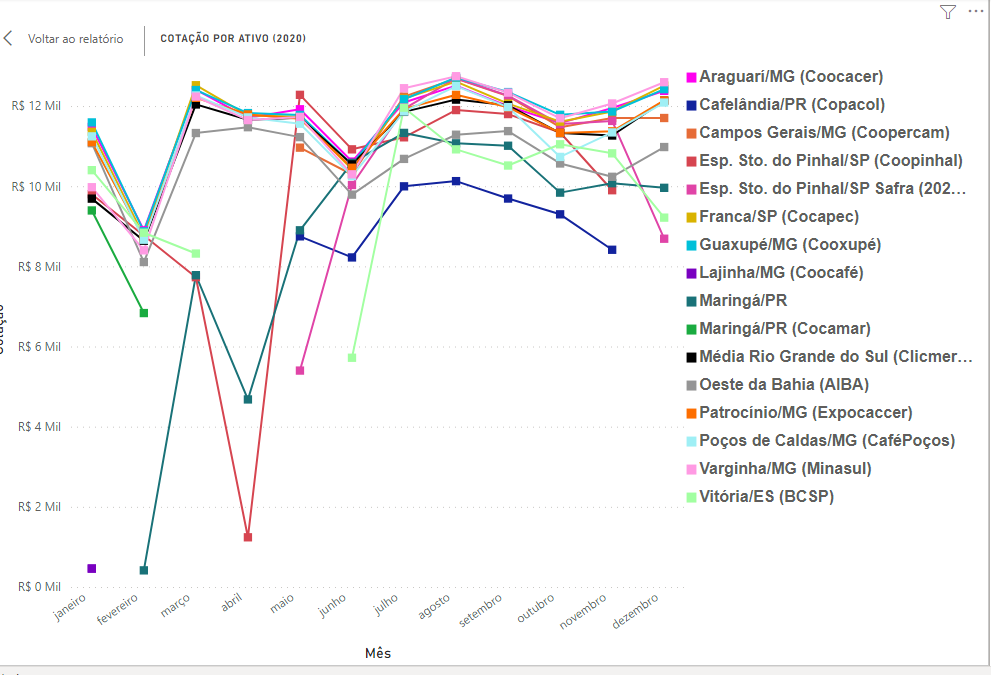

Layout of this report page (visuals, bound fields, positions):
{"tool":"powerbi","page":{"name":"Página 1","canvas":[1280,720],"ordinal":0},"visuals":[{"type":"lineChart","title":"Cotação por Ativo (2020)","fields":{"Y":["Sum(cotacoes.Cotação)"],"Series":["cotacoes.Ativo"],"Category":["cotacoes.Data.Variation.Hierarquia de datas.Mês"]},"box":[0,0,1280,719.6],"z":0}]}

Visuals, with their boxes on the page's 1280x720 design canvas (x1, y1, x2, y2). These are canvas units, not pixel positions in the 991x675 screenshot, which may show the page scaled, cropped or inside an application window:
"Cotação por Ativo (2020)" lineChart: 0/0/1280/720
